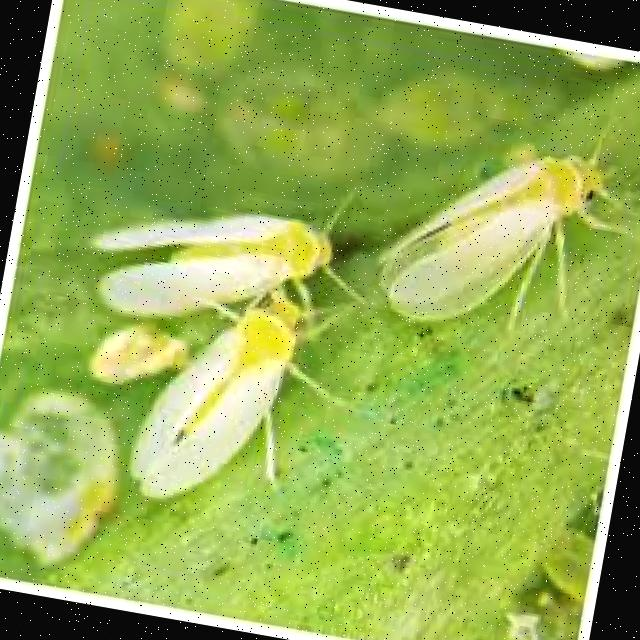whitefly: (46, 61, 624, 568)
